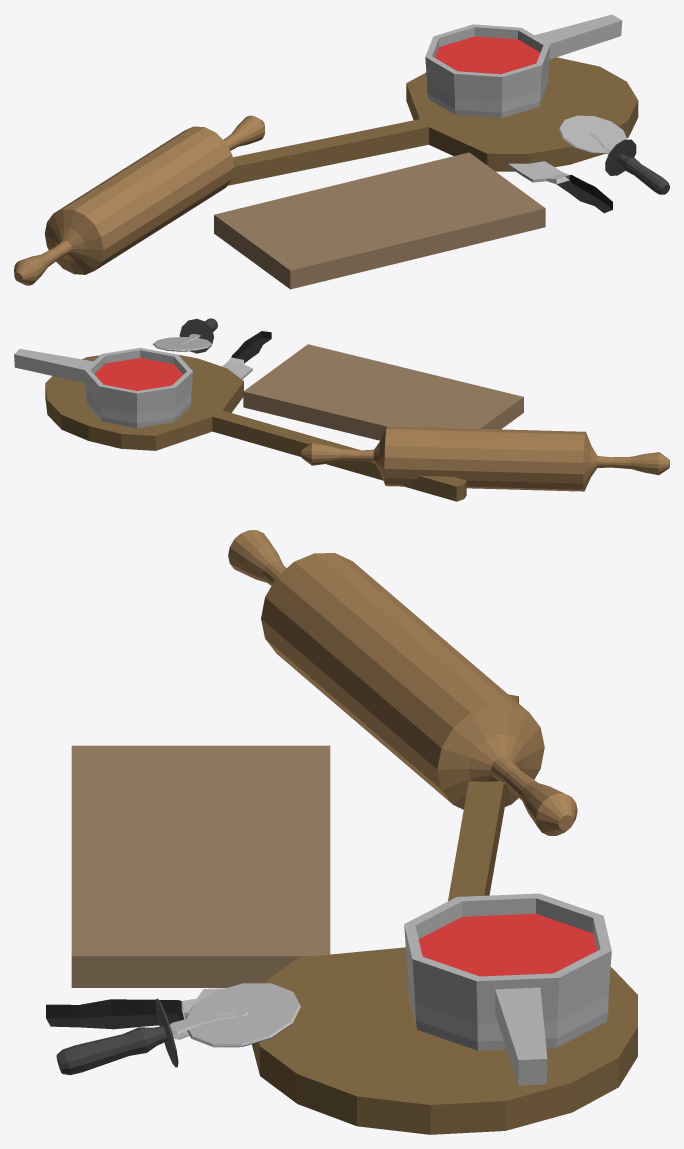
The model's file is Clutter.fbx.
The picture shows the model from 3 angles, top to bottom: view 1: azimuth 30°, elevation 25°; view 2: azimuth 150°, elevation 25°; view 3: azimuth 270°, elevation 25°; orthographic projection. The views are drawn at different scales.
Visible parts, largest first — view 1: Cube, PizzaPaddle, RollingPin, Saucepan, PizzaCutter, Knife; view 2: Cube, RollingPin, PizzaPaddle, Saucepan, PizzaCutter, Knife; view 3: Cube, PizzaPaddle, RollingPin, Saucepan, PizzaCutter, Knife.
Boxes of the visible parts, box(x1,y1,x2,y2) form: Cube: box(214, 152, 545, 289); PizzaPaddle: box(227, 57, 638, 185); RollingPin: box(14, 115, 265, 285); Saucepan: box(425, 14, 622, 118); PizzaCutter: box(558, 115, 669, 194); Knife: box(508, 161, 612, 213); Cube: box(243, 344, 523, 440); RollingPin: box(301, 426, 669, 491); PizzaPaddle: box(45, 352, 466, 501); Saucepan: box(14, 347, 192, 428); PizzaCutter: box(153, 318, 217, 353); Knife: box(222, 331, 271, 379); Cube: box(71, 745, 330, 987); PizzaPaddle: box(252, 694, 637, 1134); RollingPin: box(228, 530, 577, 835); Saucepan: box(404, 893, 611, 1085); PizzaCutter: box(56, 983, 300, 1075); Knife: box(46, 988, 224, 1029).
Size of the model in its own units: 539 by 49.95 by 238.
